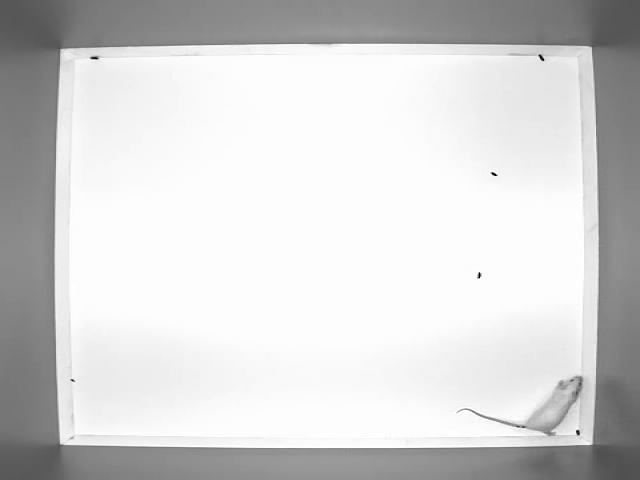Tikus: (458, 374, 585, 434)
